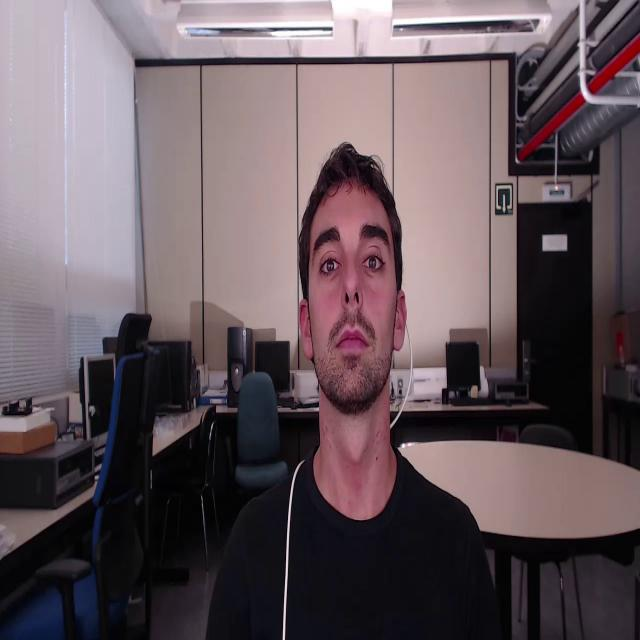eye: (359, 249, 387, 277), (316, 254, 344, 280)
gaze: (368, 256, 377, 270), (326, 260, 335, 272)
